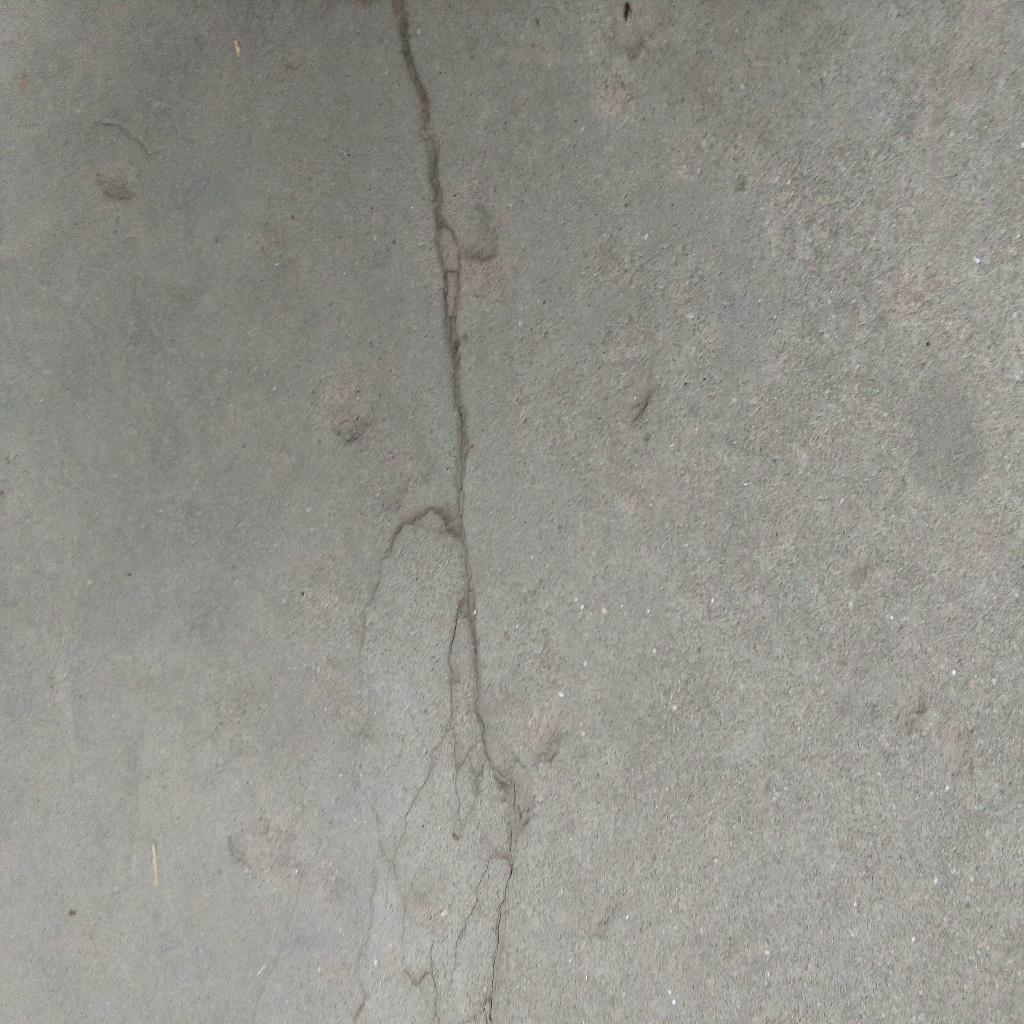Crack: (356, 1, 522, 1024)
